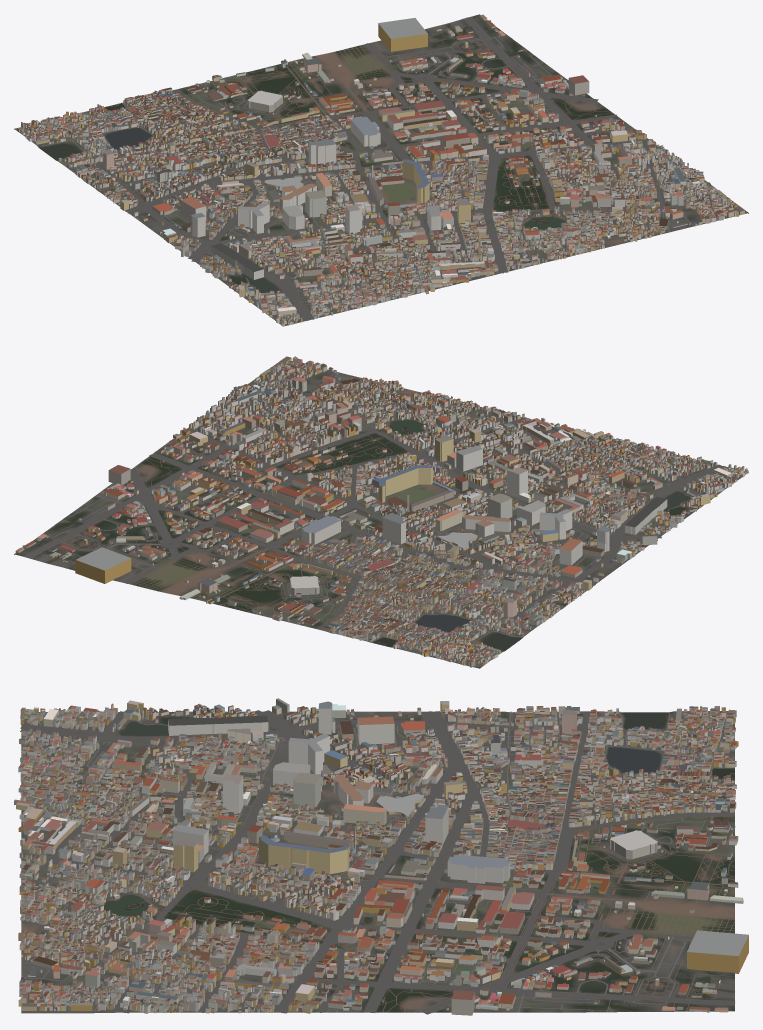
3 views of the same model, one above another, from view 1: azimuth 30°, elevation 25°; view 2: azimuth 150°, elevation 25°; view 3: azimuth 270°, elevation 25° (orthographic). The views are drawn at different scales.
Parts seen in each view (by area): view 1: buildings, ground, roads, water; view 2: buildings, ground, roads, water; view 3: buildings, ground, roads, water.
Part boxes in pixels (bbox=[...]): buildings: bbox=[17, 14, 744, 326]; ground: bbox=[14, 14, 748, 326]; roads: bbox=[16, 17, 747, 321]; water: bbox=[40, 33, 564, 292]; buildings: bbox=[15, 356, 748, 667]; ground: bbox=[14, 360, 748, 668]; roads: bbox=[23, 365, 739, 667]; water: bbox=[60, 420, 690, 649]; buildings: bbox=[14, 698, 748, 1015]; ground: bbox=[21, 711, 734, 1013]; roads: bbox=[20, 710, 735, 1014]; water: bbox=[104, 712, 734, 992].
Size of the model in its own units: 1429 by 72.31 by 1444.
